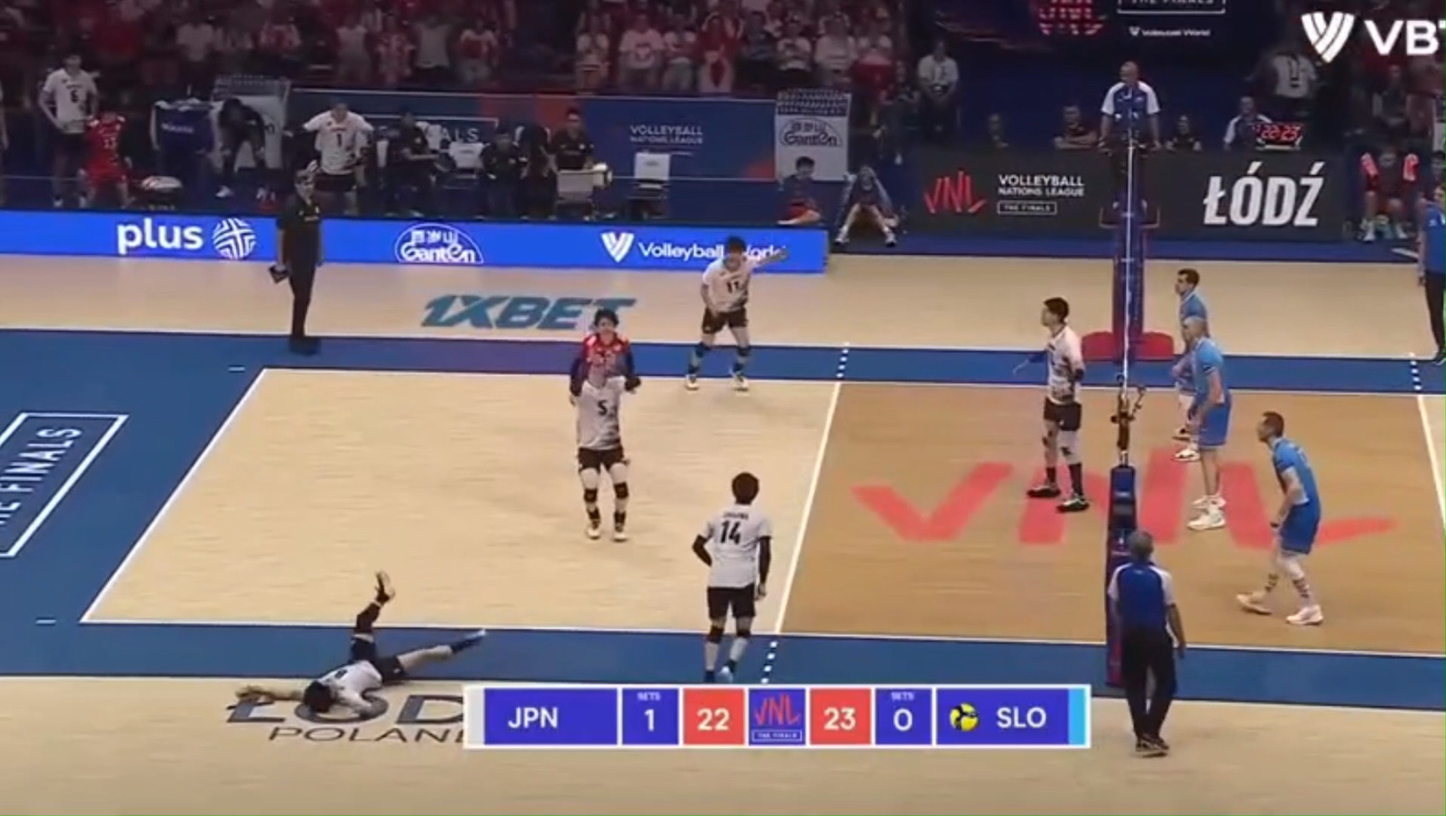ball: (588, 162, 612, 187)
player: (1237, 411, 1323, 626), (1182, 317, 1231, 530), (1172, 268, 1207, 408)
player 1: (237, 571, 485, 718), (693, 472, 773, 682), (1014, 297, 1089, 512), (685, 236, 786, 391), (573, 373, 630, 541), (569, 308, 640, 397)
referee: (1107, 530, 1187, 756), (1098, 61, 1160, 225), (270, 170, 321, 354), (1418, 185, 1445, 364)
